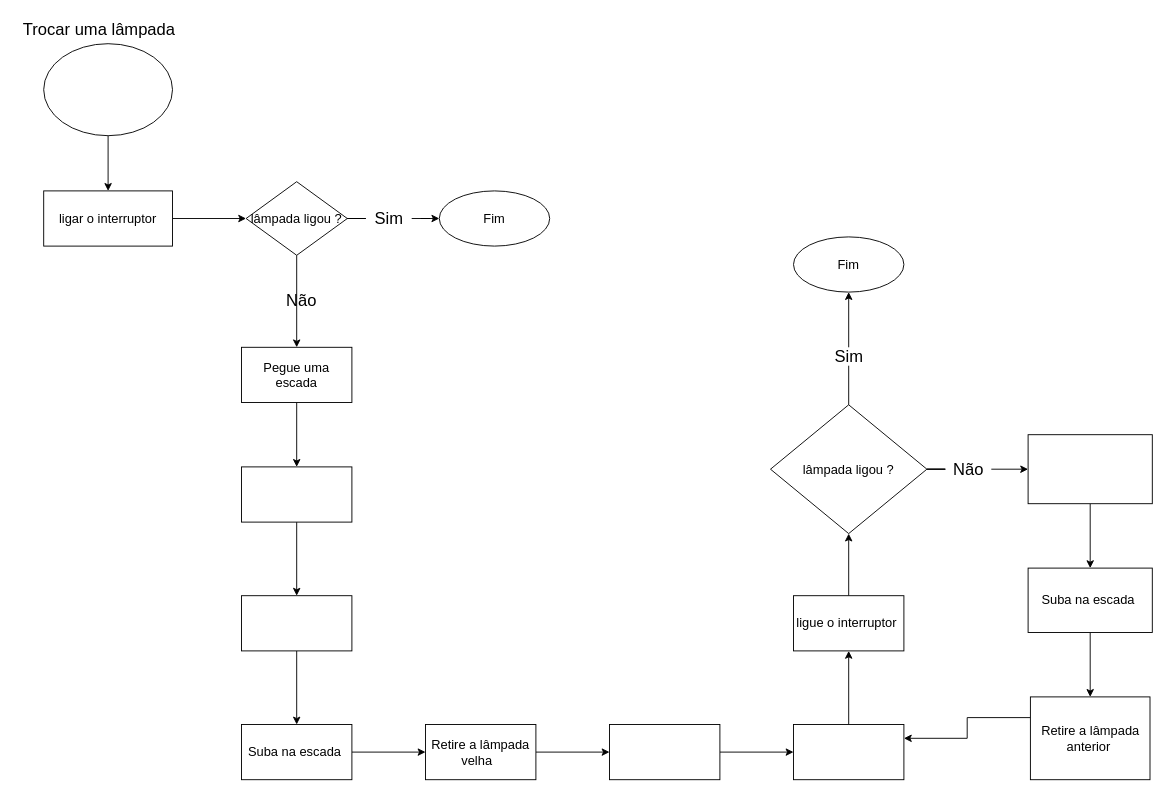
The diagram is 1168 pixels wide and 796 high, and some of its shapes have lost their labels. Here are the shapes that lost their labels. From the top down, the centre of each, then its label:
pixel 107 89: Início
pixel 1089 469: pegue outra lâmpada nova
pixel 296 494: coloque embaixo da lâmpada
pixel 296 623: Pegue uma lâmpada nova
pixel 664 752: coloque a lâmpada nova
pixel 848 752: desça da escada
